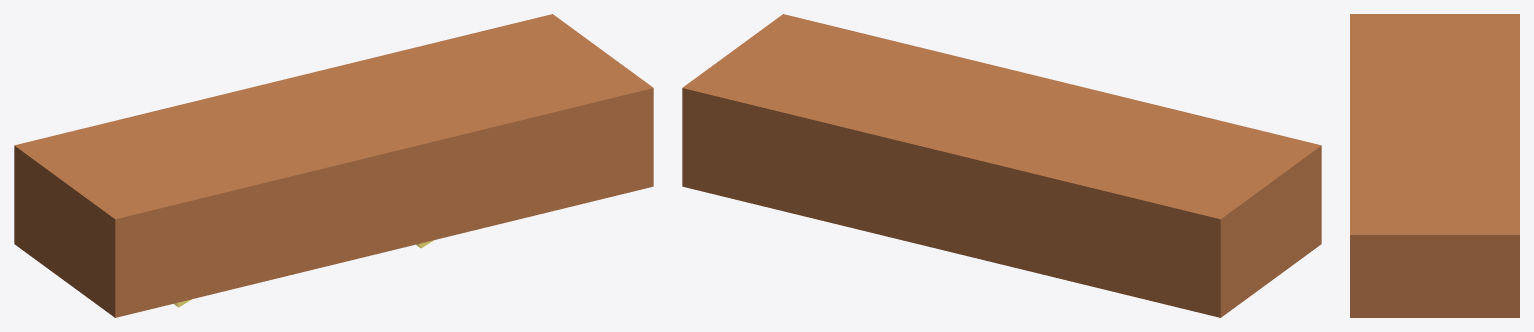
Rendered from city_traffic_barrier.glb.
The picture shows the model from 3 angles, left to right: view 1: azimuth 30°, elevation 25°; view 2: azimuth 150°, elevation 25°; view 3: azimuth 270°, elevation 25°; orthographic projection. The views are drawn at different scales.
Parts seen in each view (by area): view 1: barrier; view 2: barrier; view 3: barrier.
Part boxes in pixels (box(x1,y1,x2,y2)): barrier: box(14, 14, 653, 317); barrier: box(682, 14, 1321, 317); barrier: box(1350, 14, 1519, 317).
Bounding box in the file's own units: 2 × 0.4707 × 0.65.
